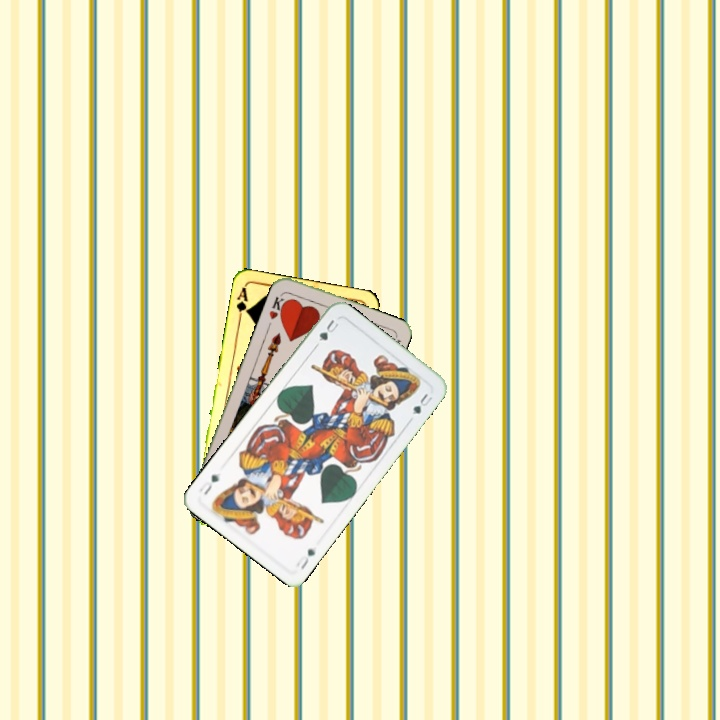GA: (232, 283, 251, 324)
GU: (315, 315, 341, 344), (292, 544, 318, 572)
HK: (265, 289, 290, 322)
